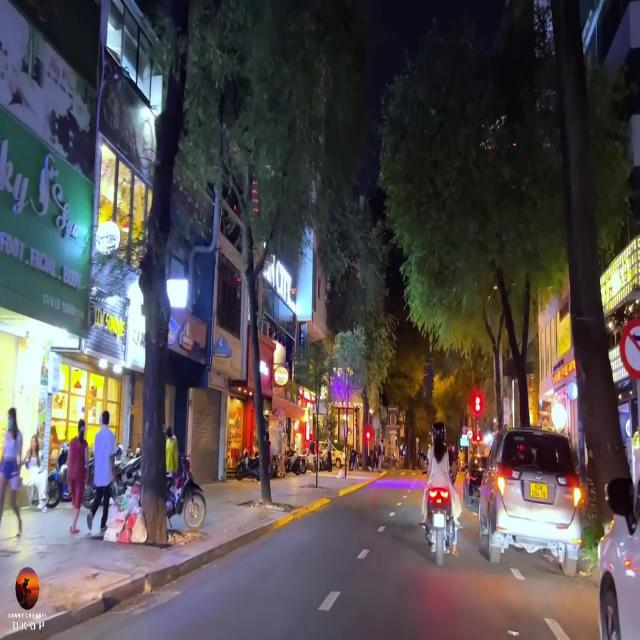bien_vang: (529, 479, 549, 502)
